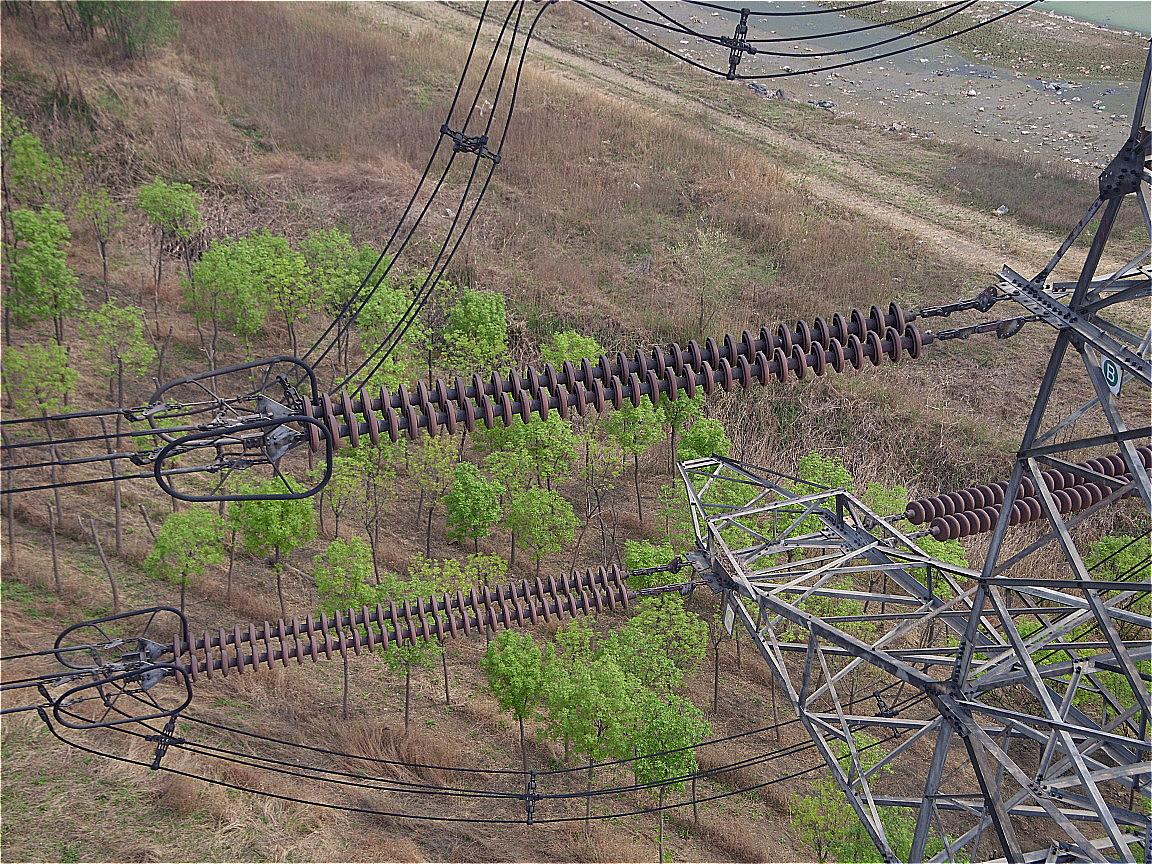insultor1: (299, 299, 921, 452), (171, 564, 630, 686)
